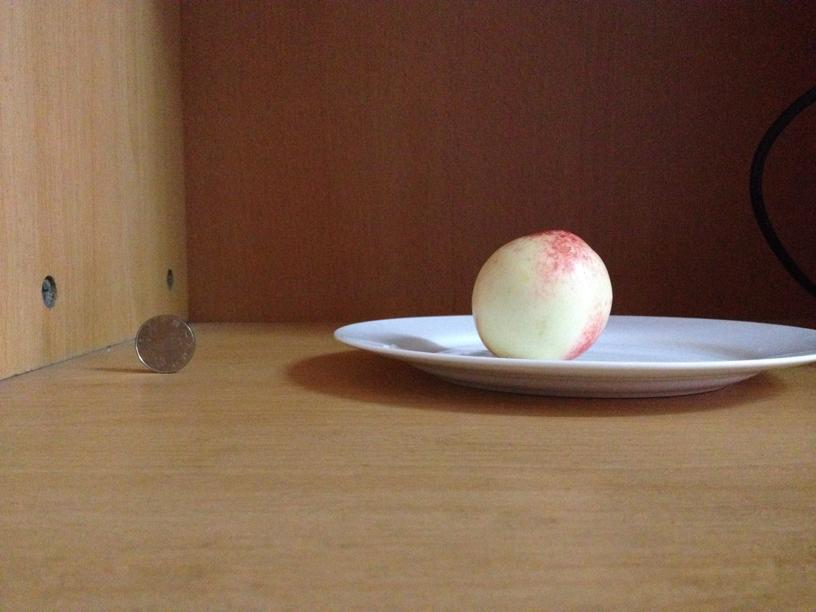coin: (134, 311, 194, 372)
peach: (468, 225, 611, 359)
